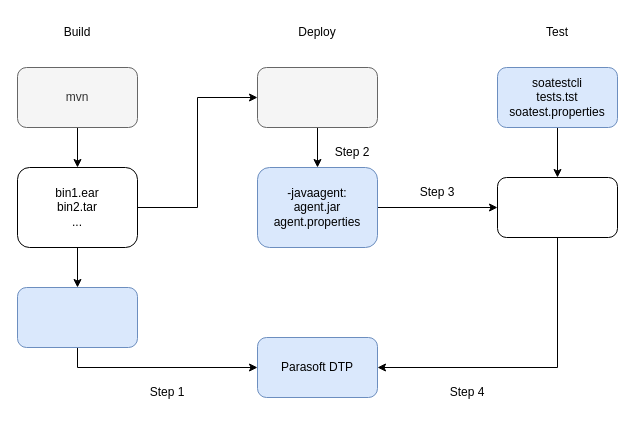
Some shapes in this 635 by 424 pixel diagram are drawn without their labels. The centre of each missing label's shape, as x and y in pixels:
"Docker Image + Openshift" belongs at (317,97).
"http://agent.url:8050" belongs at (557,207).
"jtestcov.jar jtestcov.properties" belongs at (77,317).
